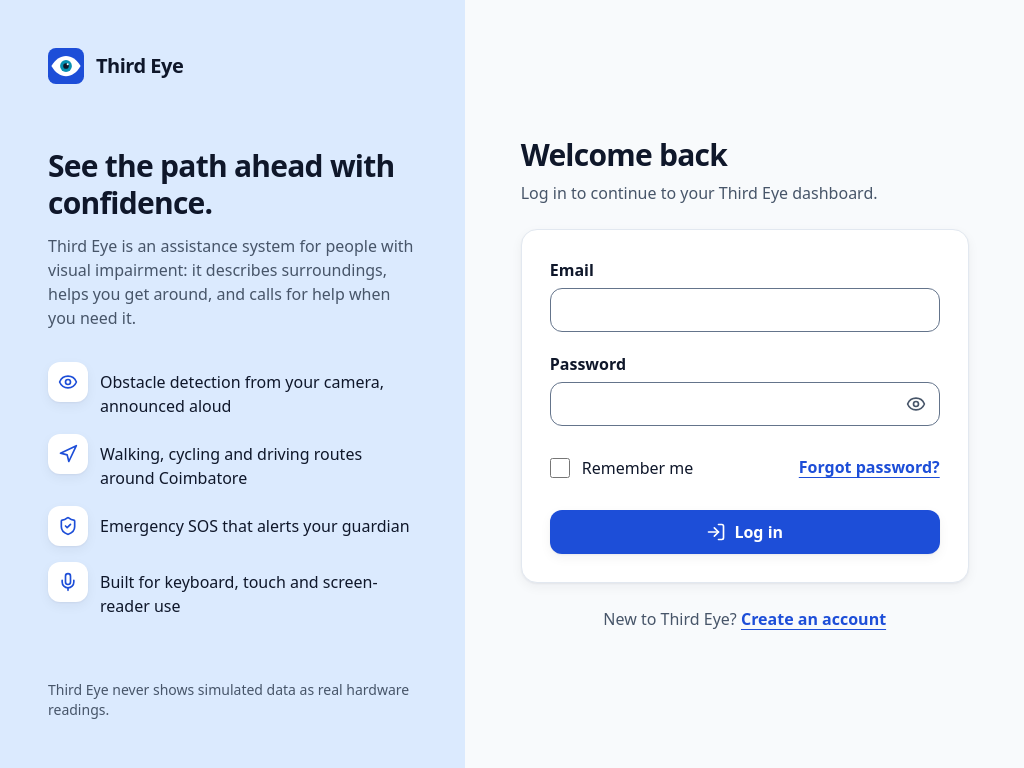
Test: Login › rejects a malformed email
Type "not-an-email" into the field labelled "Email".
click(745, 310); type("not-an-email")  # box [550,288,940,332]
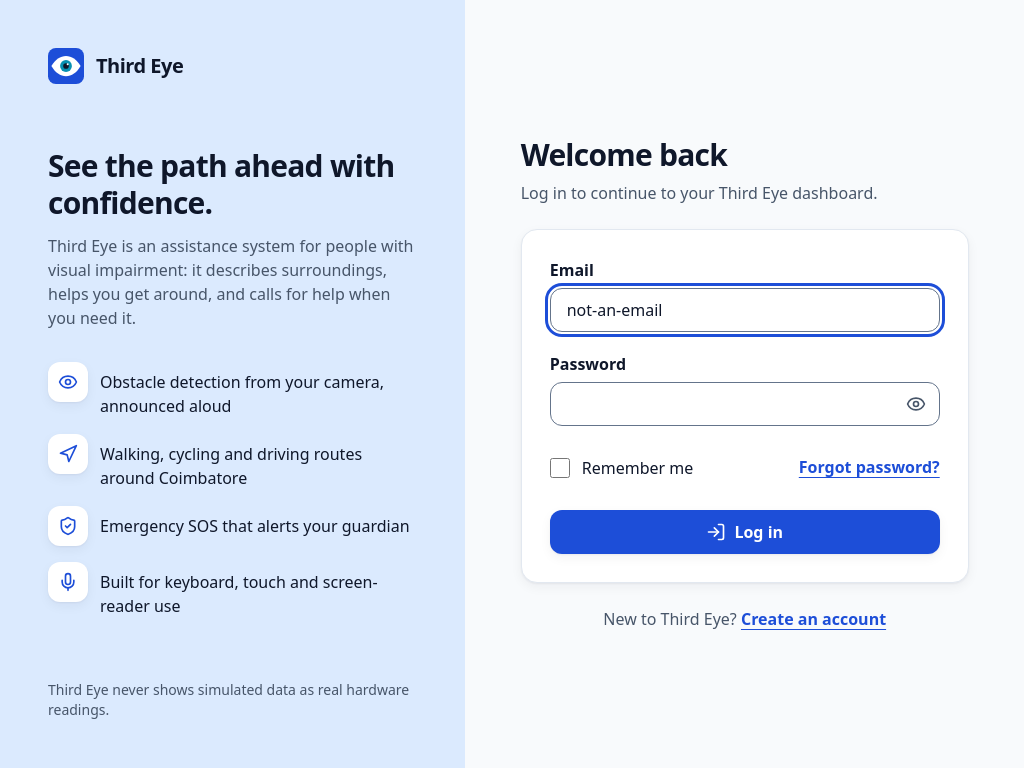
Type "secret123" into the password field labelled "Password".
click(745, 404); type("secret123")  # box [550,382,940,426]
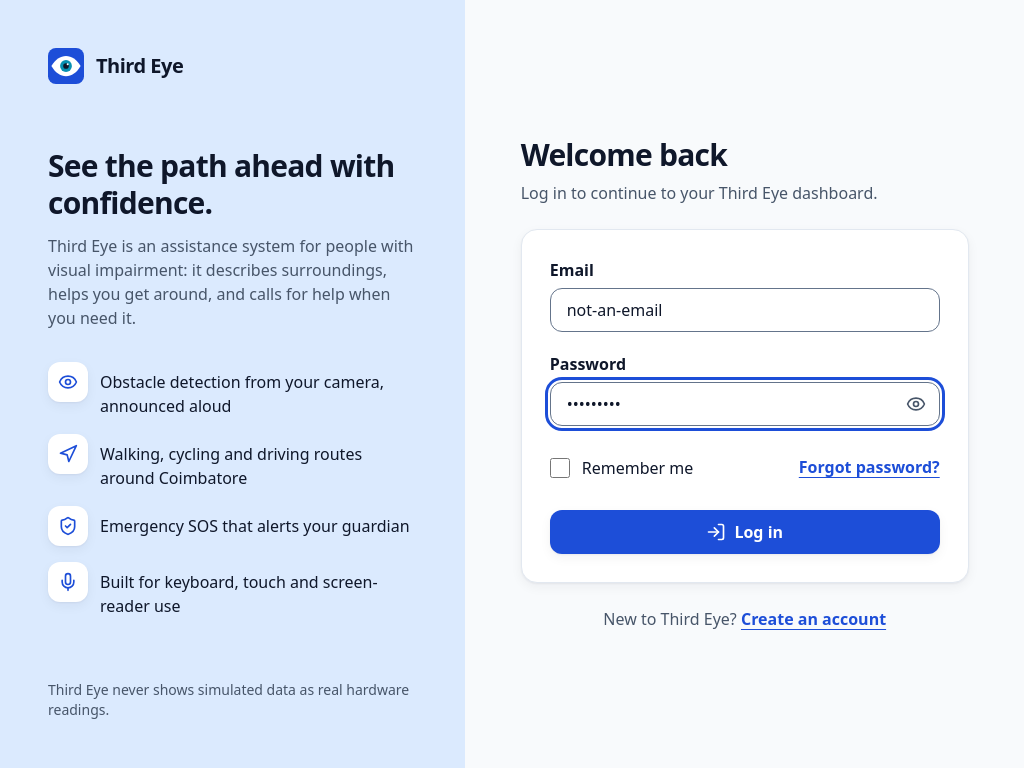
Click the button "Log in".
click(745, 532)  # box [550,510,940,554]
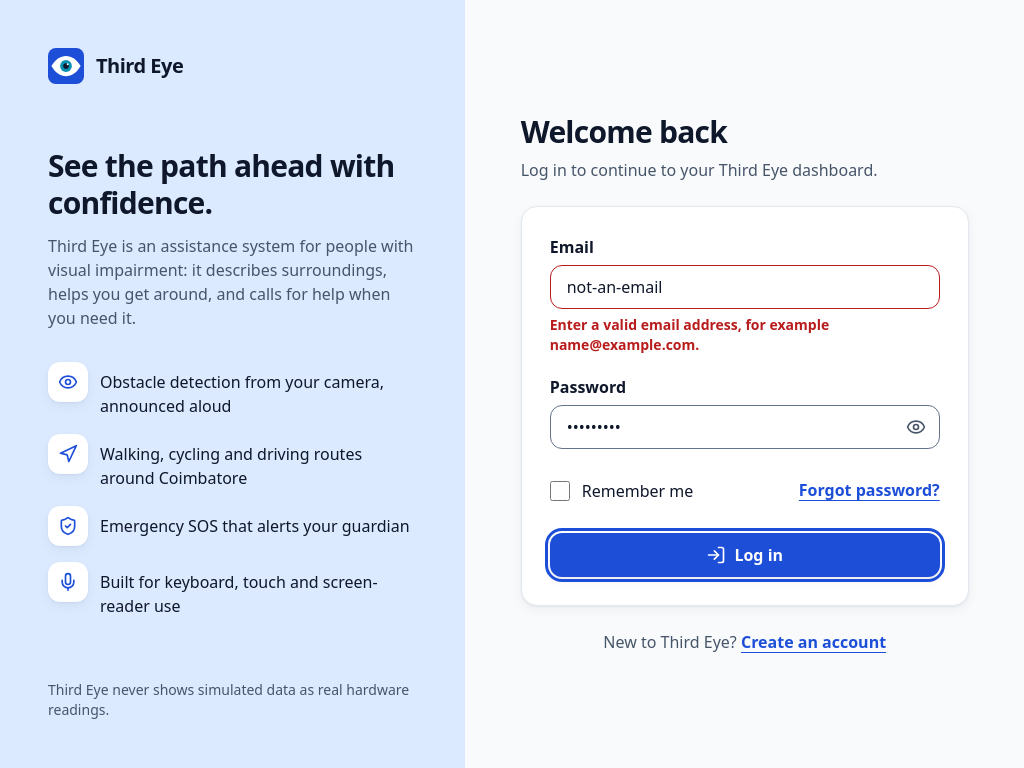
Result: the text "Enter a valid email address, for example name@example.com." is shown at [550,315,829,354]
